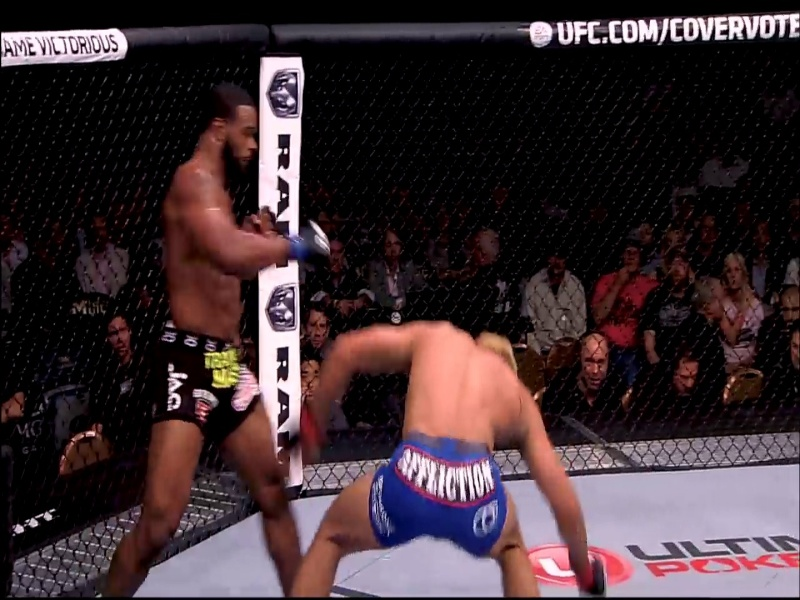fighter: (90, 91, 332, 600), (299, 317, 607, 600)
